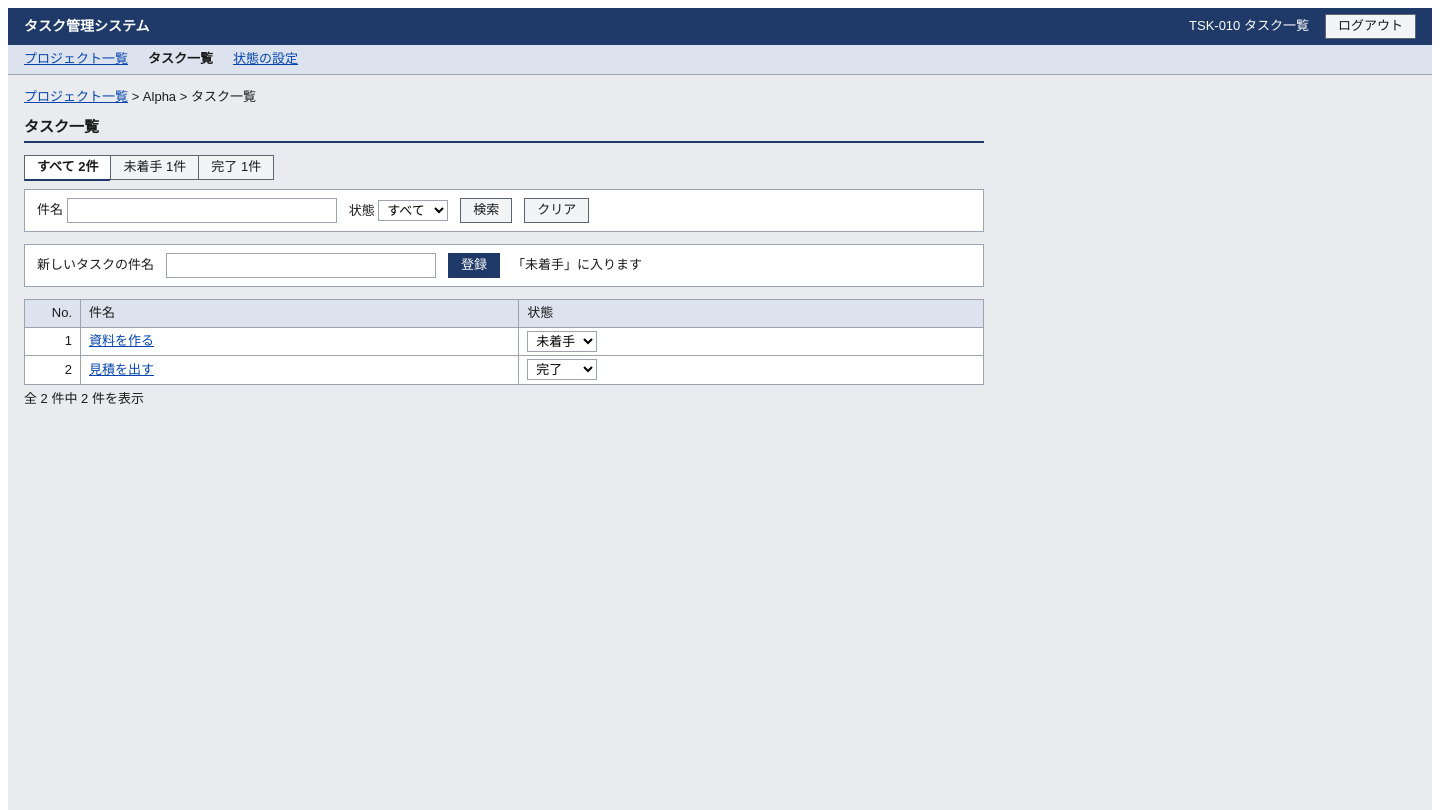
Scenario: task list: filters by column, registers into the first column, moves a task
Expected: the link "資料を作る" is shown, [89, 333, 154, 348]
Click the button "完了 1件".
click(236, 168)  # box [198, 155, 274, 180]
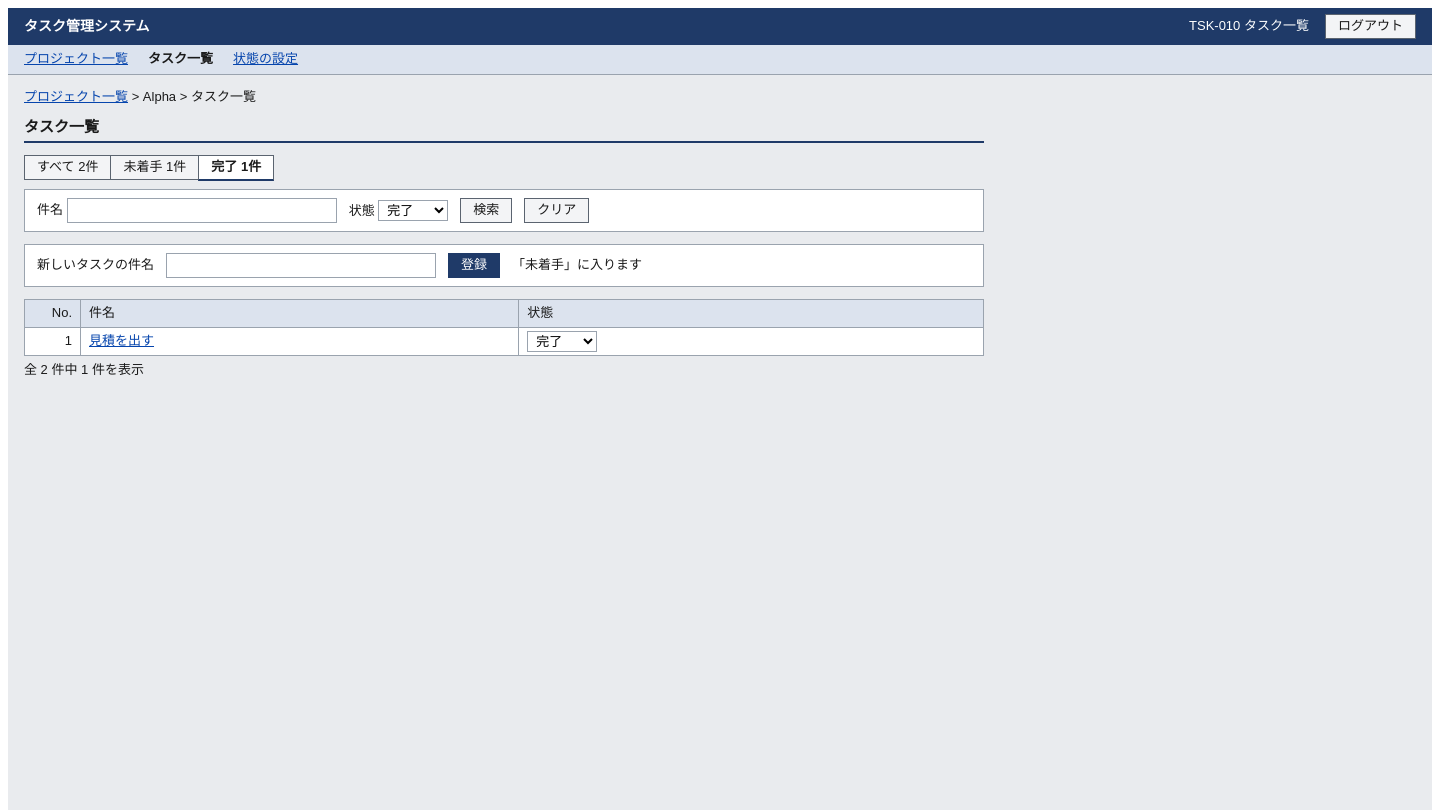
Expected: the link "資料を作る" is gone
Expected: the text "全 2 件中 1 件を表示" is shown, [24, 362, 144, 377]
Click the button "すべて 2件".
click(67, 168)  # box [24, 155, 110, 180]
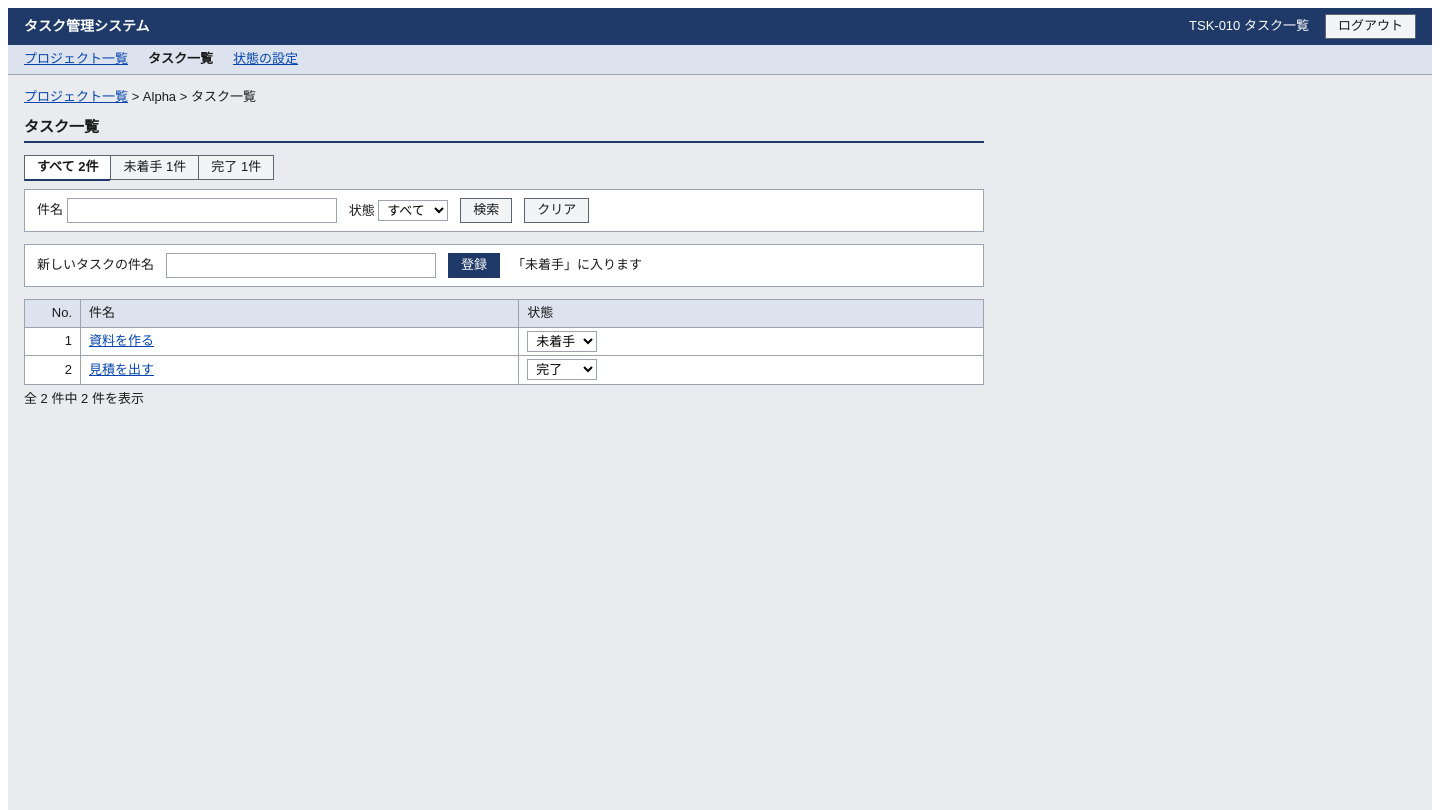
Type "会議" into the field with test id "new-task-title".
click(301, 265); type("会議")  # box [166, 253, 436, 278]
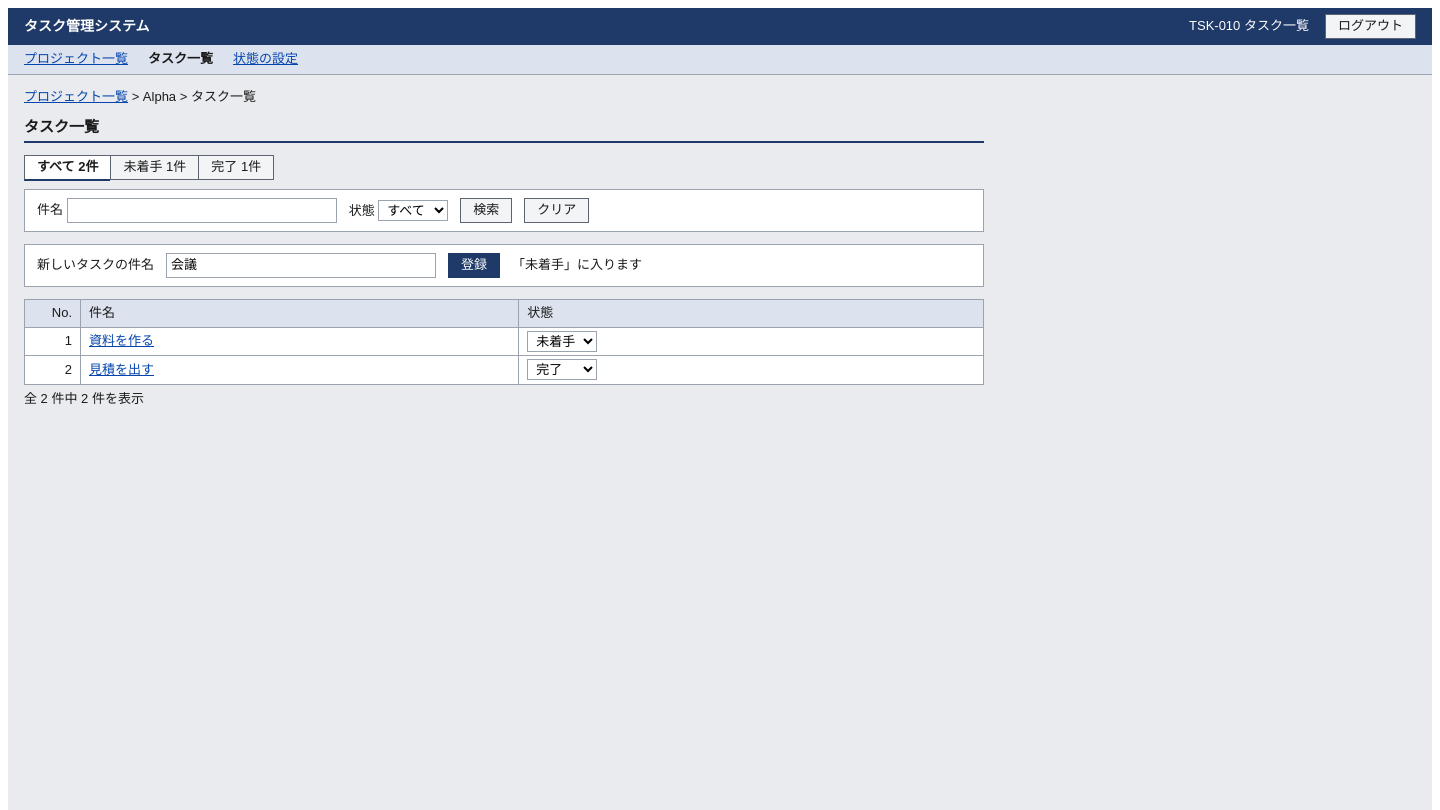
Click the button with test id "new-task-submit".
click(474, 265)  # box [448, 253, 500, 278]
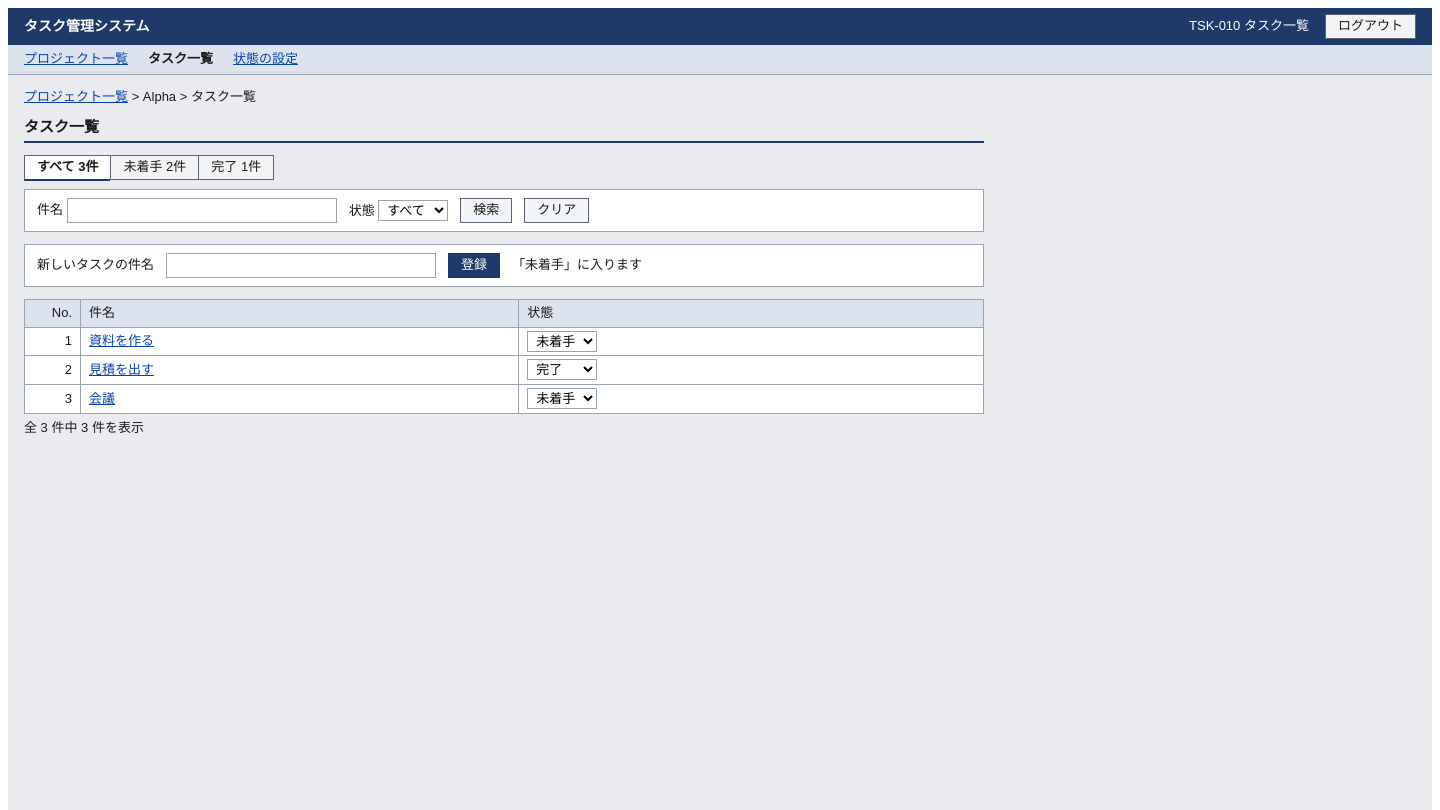
Expected: the link "会議" is shown, [89, 391, 115, 406]
Select "完了" in the dropdown named "資料を作る の状態" at (562, 341), box [527, 331, 597, 352]
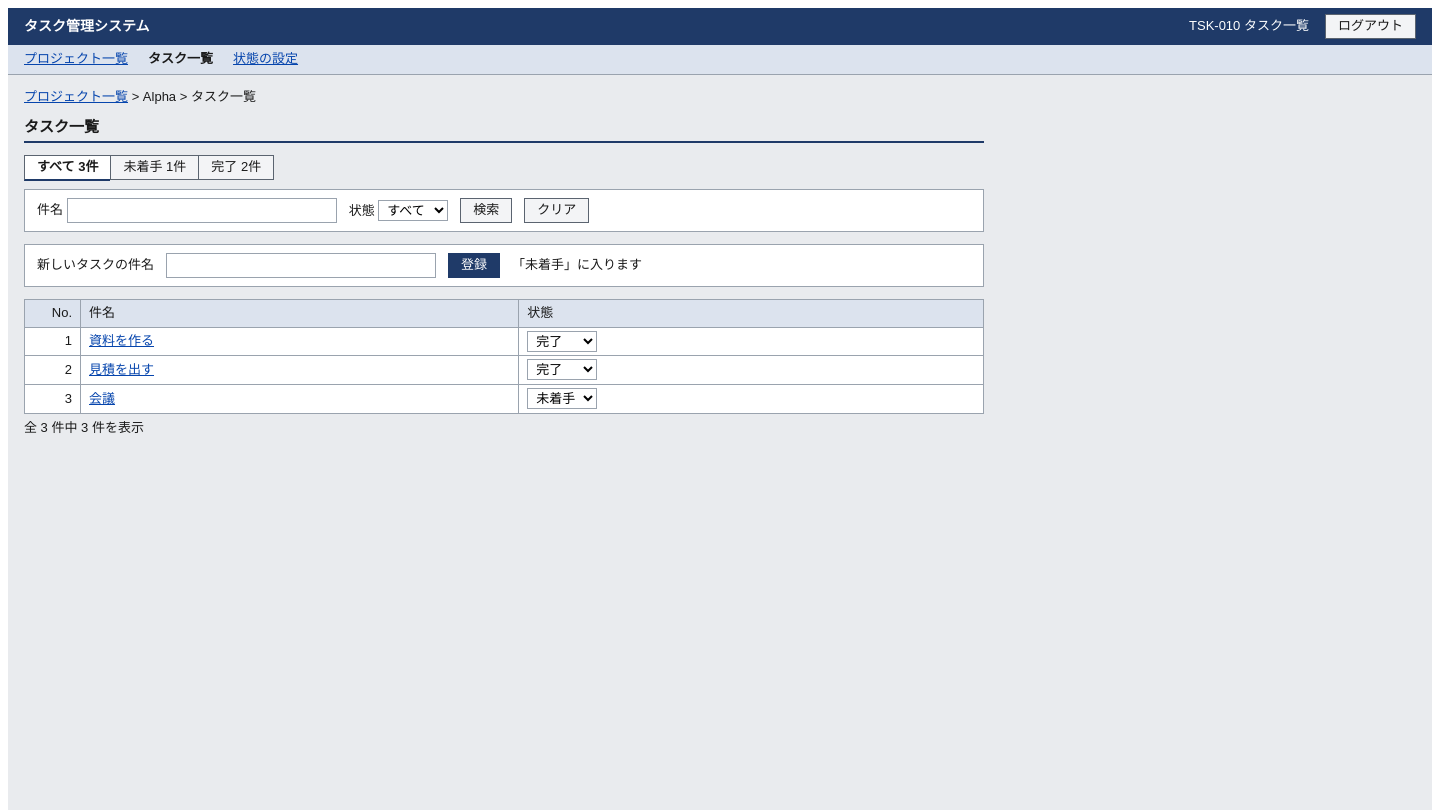
Expected: the button "完了 2件" is shown, [198, 155, 274, 180]
